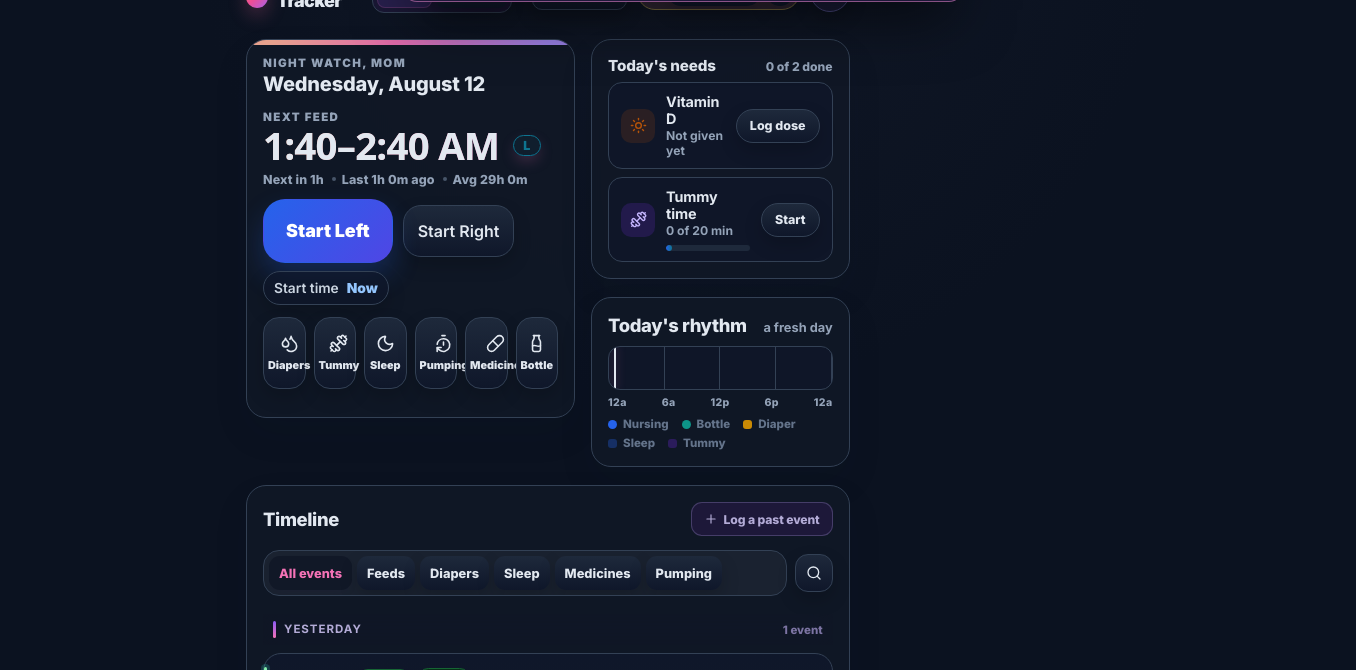
Scenario: finding things in the timeline › clears the query with Escape without closing the panel
The width and height of the screenshot is (1366, 670).
Click the button named "Search and jump to a date". click: (814, 573)
box: [795,554,833,592]
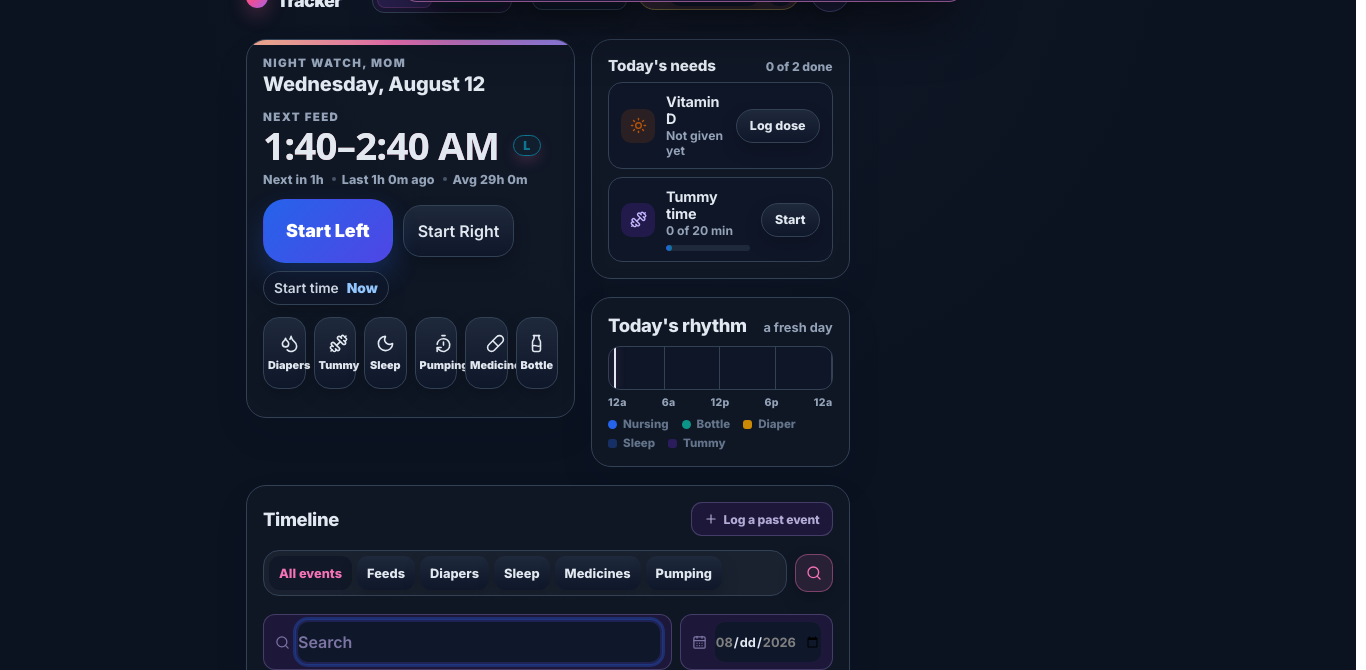
Type "burp" into the search field named "Search timeline". click: (479, 642)
box: [298,622,660,662]
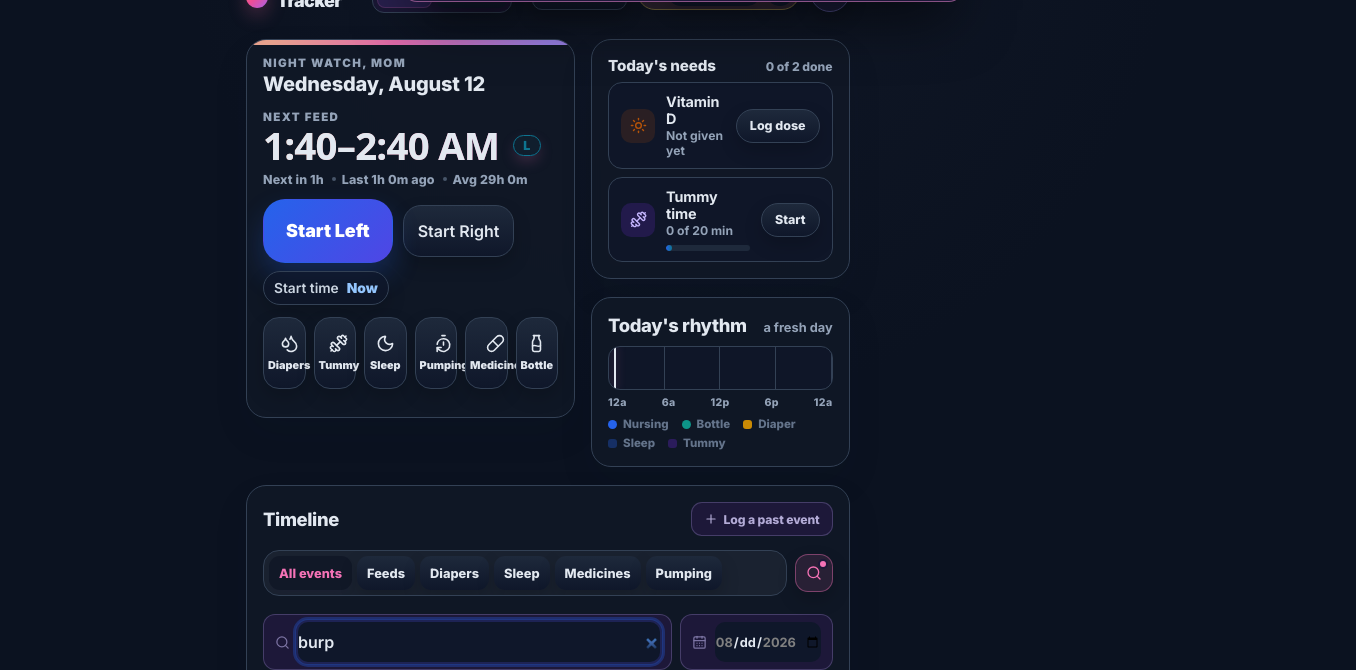
Press Escape
(page scrolled)
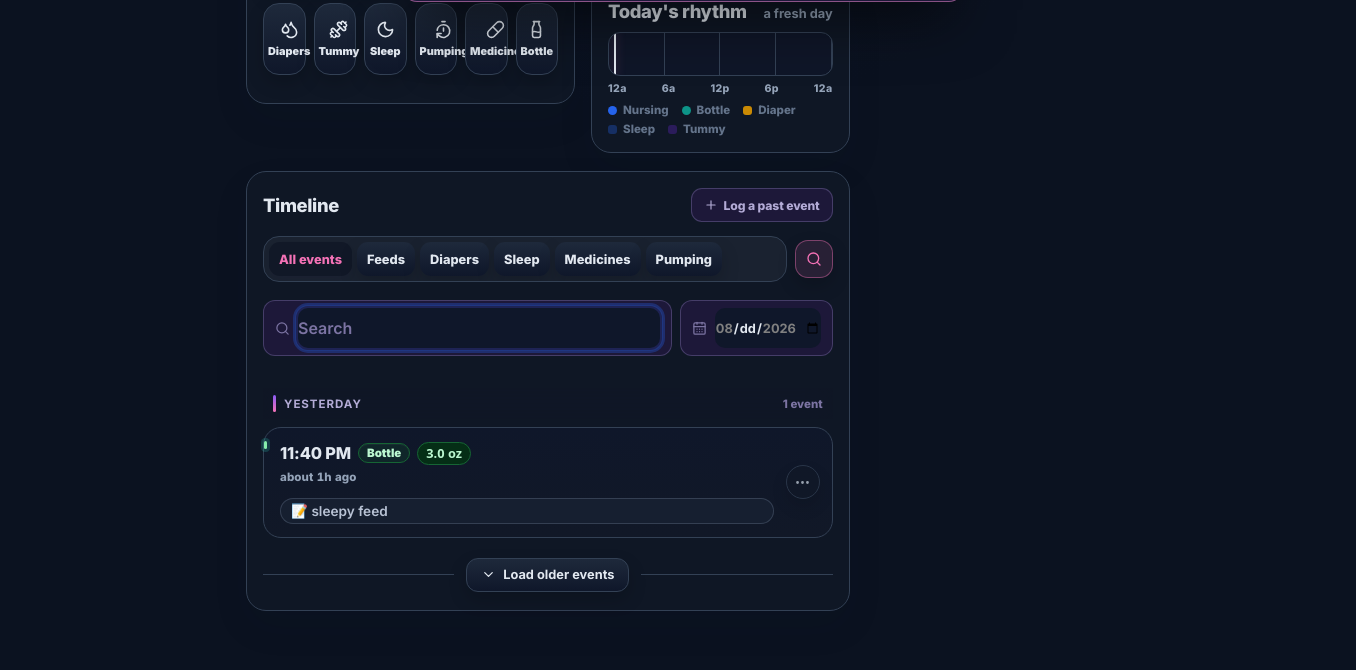
Expected: the button named "Search and jump to a date" is expanded, [795,240,833,278]
Expected: the search field named "Search timeline" is empty, [298,308,660,348]
Expected: the text "📝 sleepy feed" is shown, [280,498,774,524]
